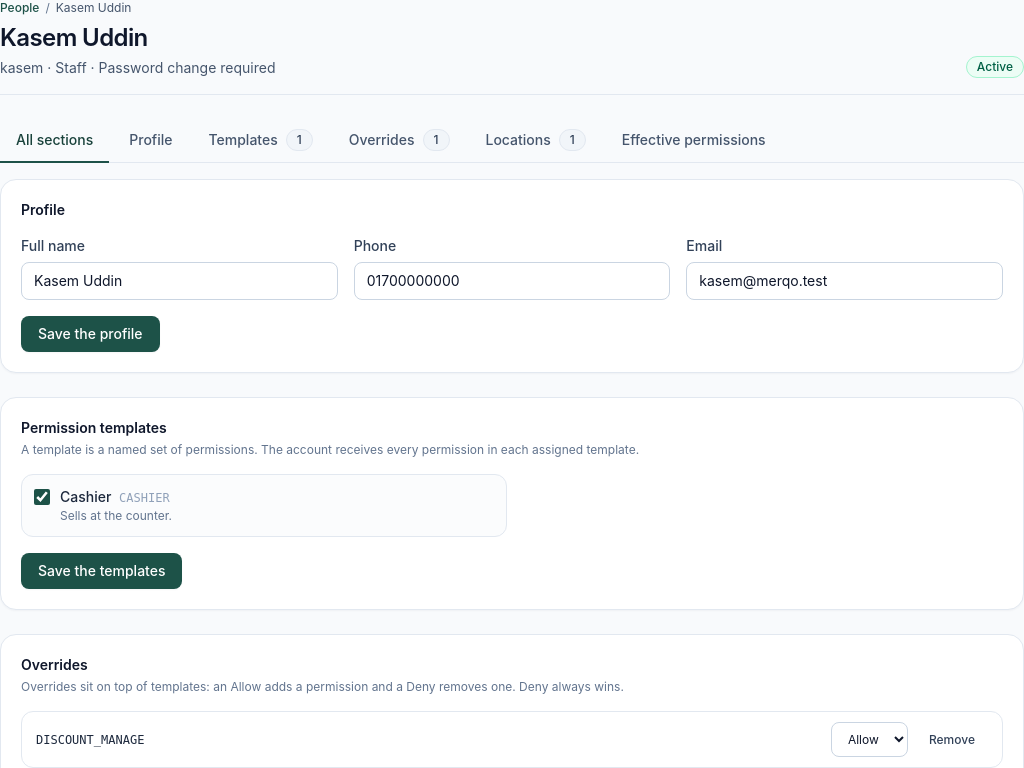
UserDetailPage › shows the message of the backend when the change is refused
expect the text "Cashier" is shown: met, box [60,488,111,505]
Click the button "Save the templates". click: (102, 571)
box: [21,553,182,589]
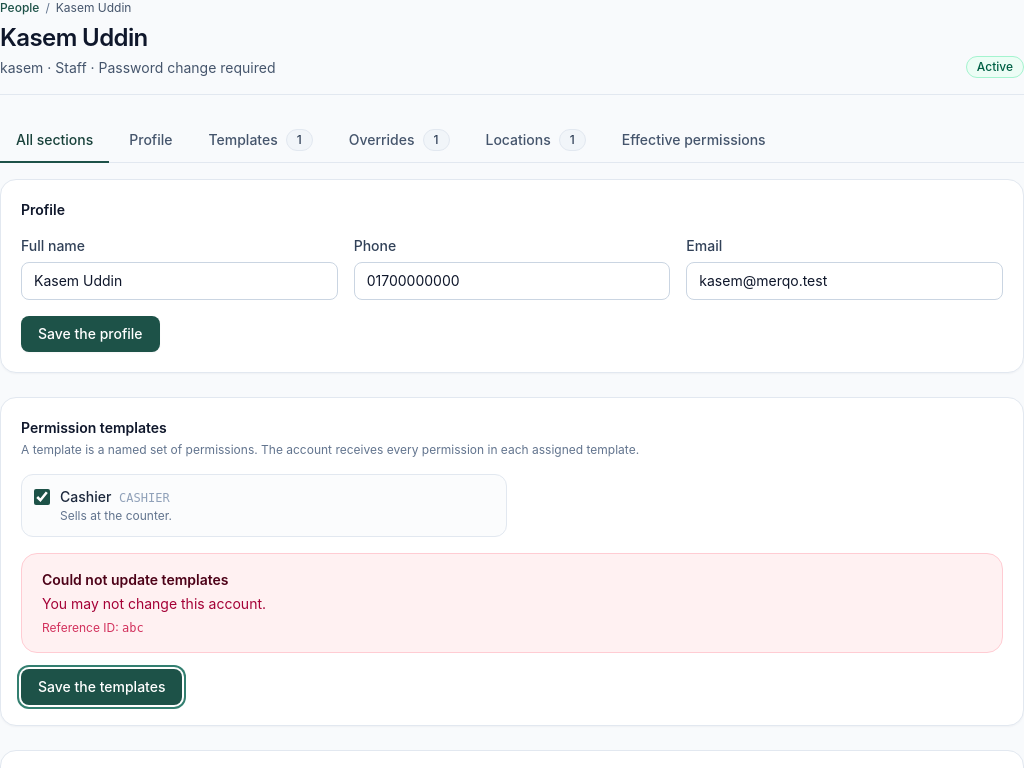
expect the text "You may not change this account." is shown: met, box [42,594,266,614]
